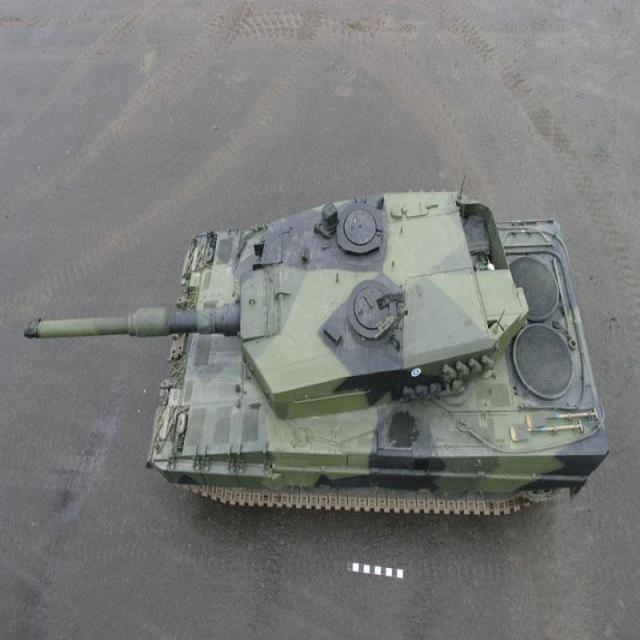Tanks: (8, 91, 578, 597)
